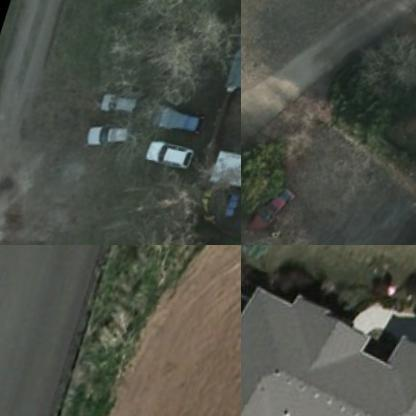car: (248, 177, 314, 244), (148, 137, 206, 178), (87, 118, 142, 158), (106, 87, 153, 126)
